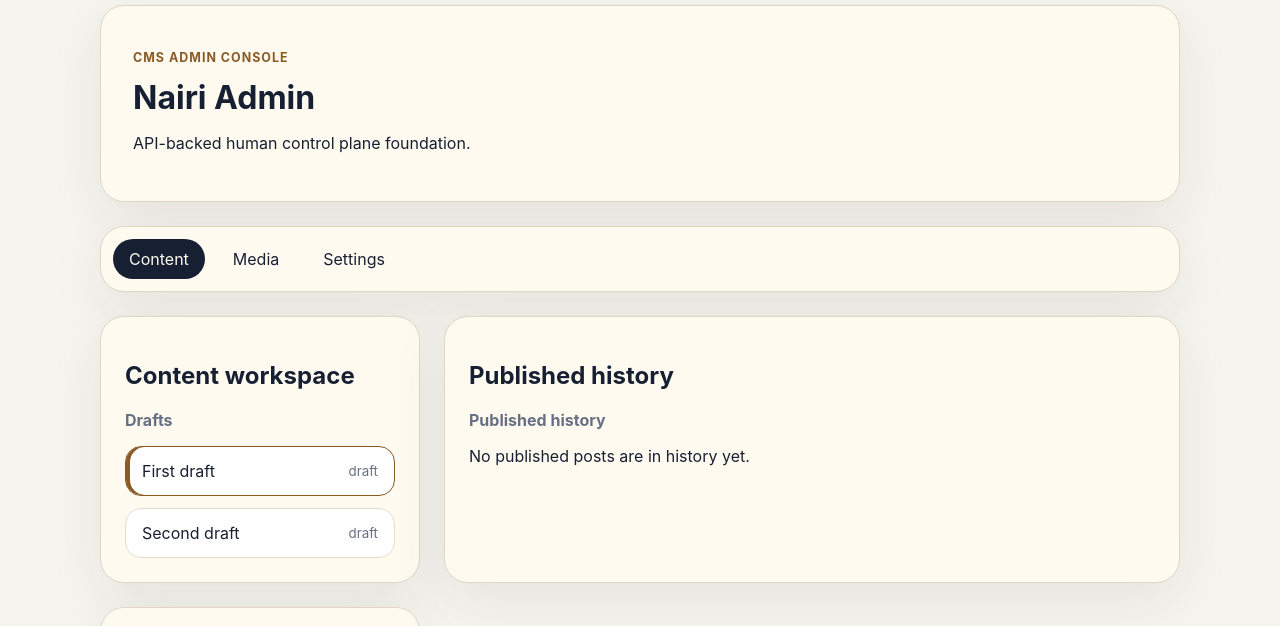
Test: Nairi admin console shell › ignores stale draft edit responses after a newer selection
Step 1. Click the button "First draft draft" → (178, 471), box [125,446,395,496]
(page scrolled)
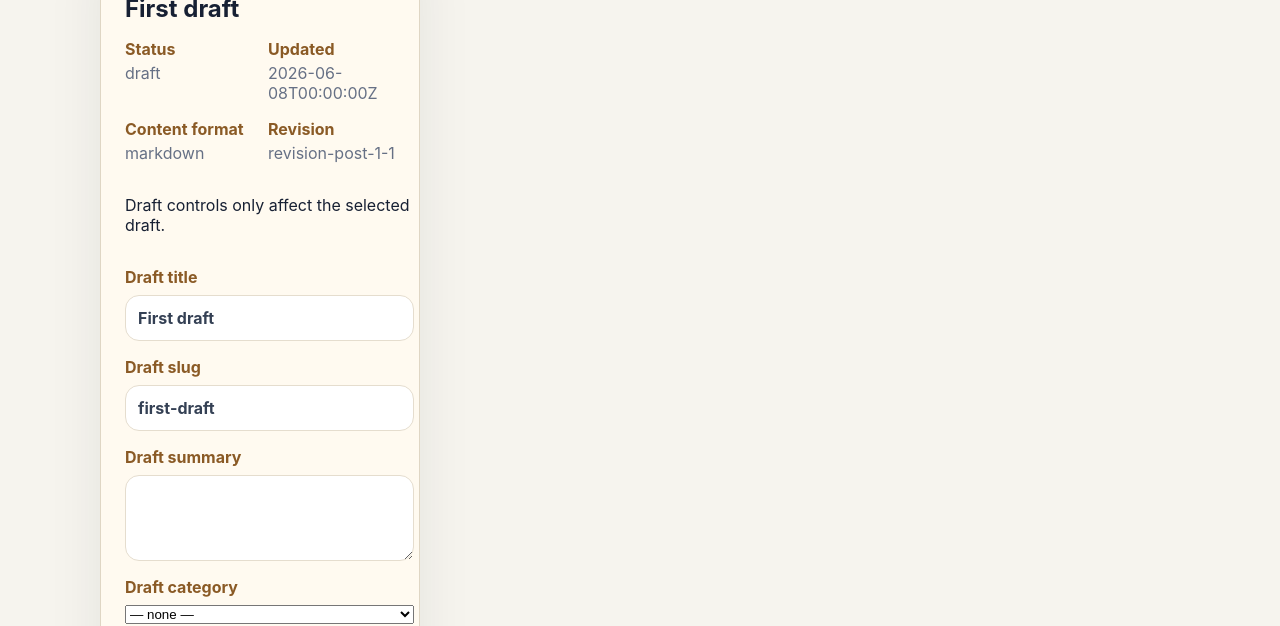
Check: the text "revision-post-1-1" is shown, box [268,143,395,163]
Step 2. Replace the text in the field labelled "Draft title" with "Saved stale first draft" → (270, 318), box [125,295,414,341]
(page scrolled)
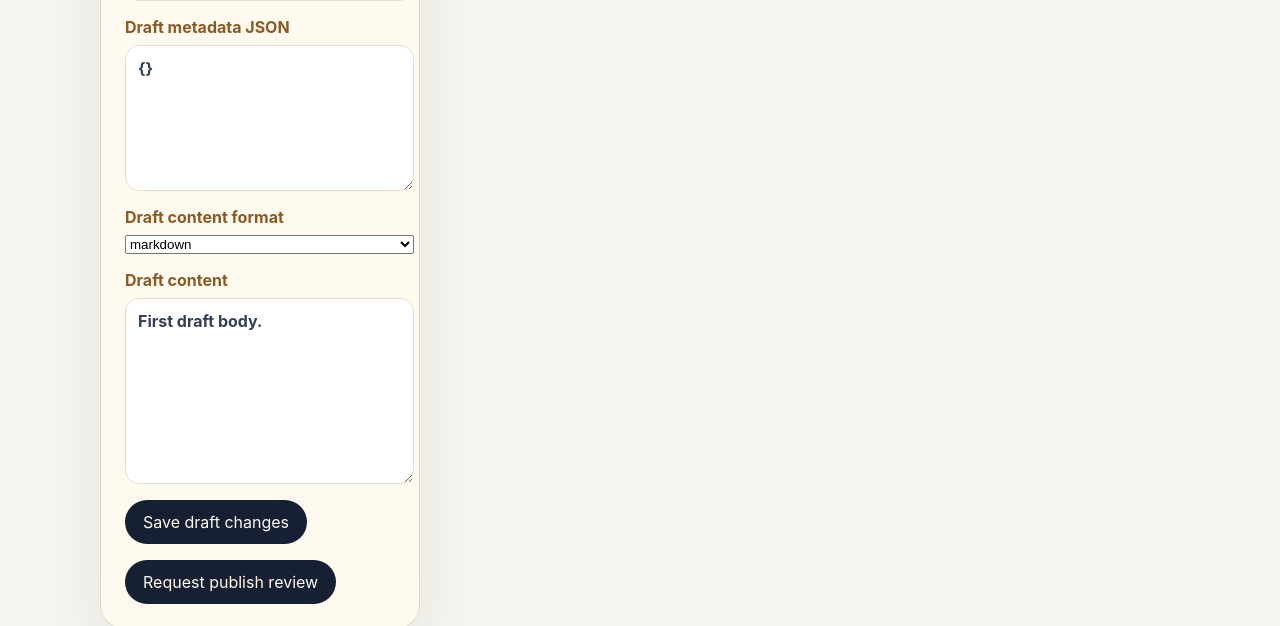
Step 3. Click the button "Save draft changes" → (216, 522), box [125,500,307,544]
(page scrolled)
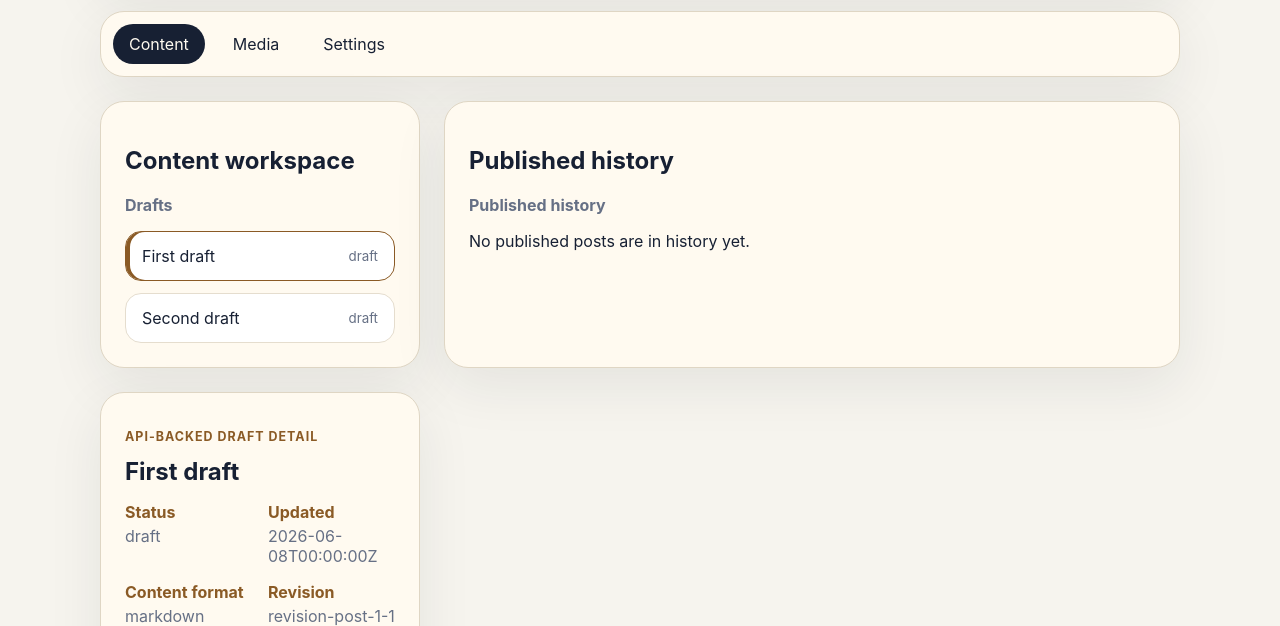
Step 4. Click the button "Second draft draft" → (191, 318), box [125,293,395,343]
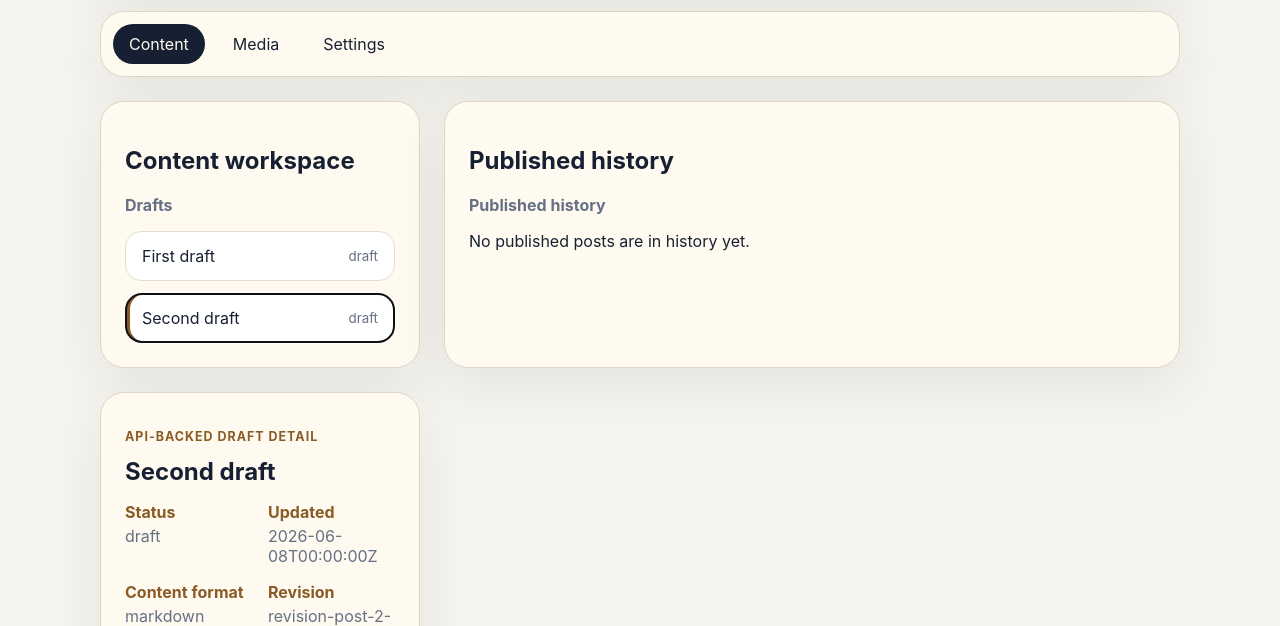
Check: the heading "Second draft" is shown, box [125,457,276,486]
